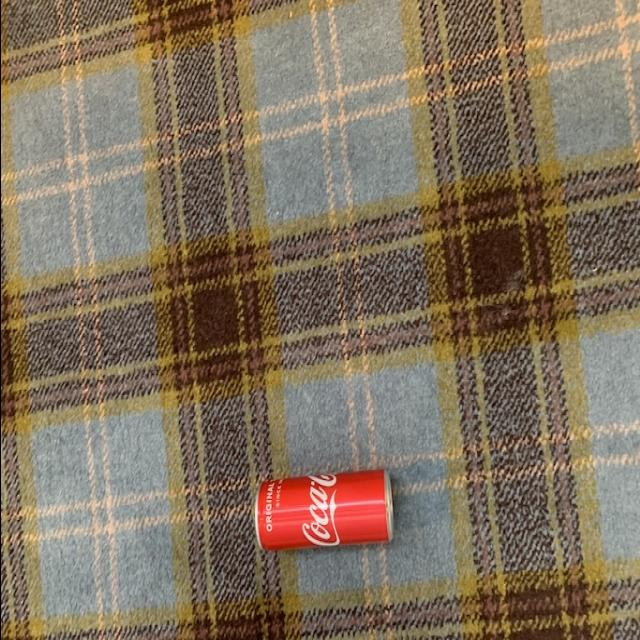Aluminum Can: (252, 465, 394, 556)
